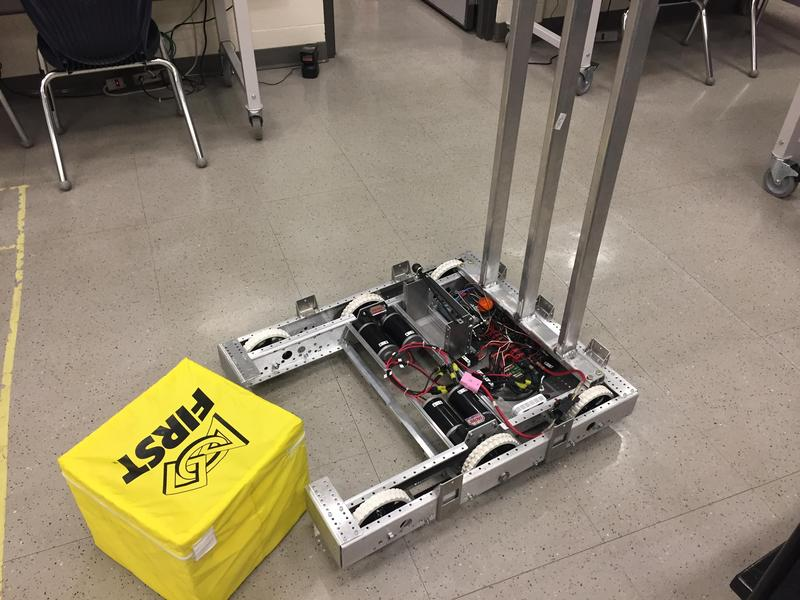robot: (224, 1, 643, 560)
